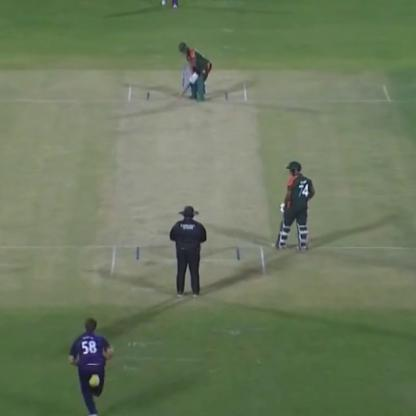bat: (176, 63, 197, 102)
pitch: (103, 85, 270, 298)
